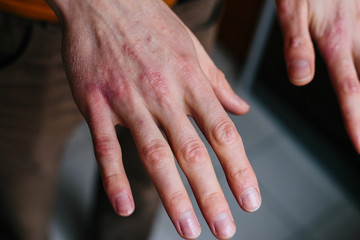Diseased: (65, 18, 199, 123)
